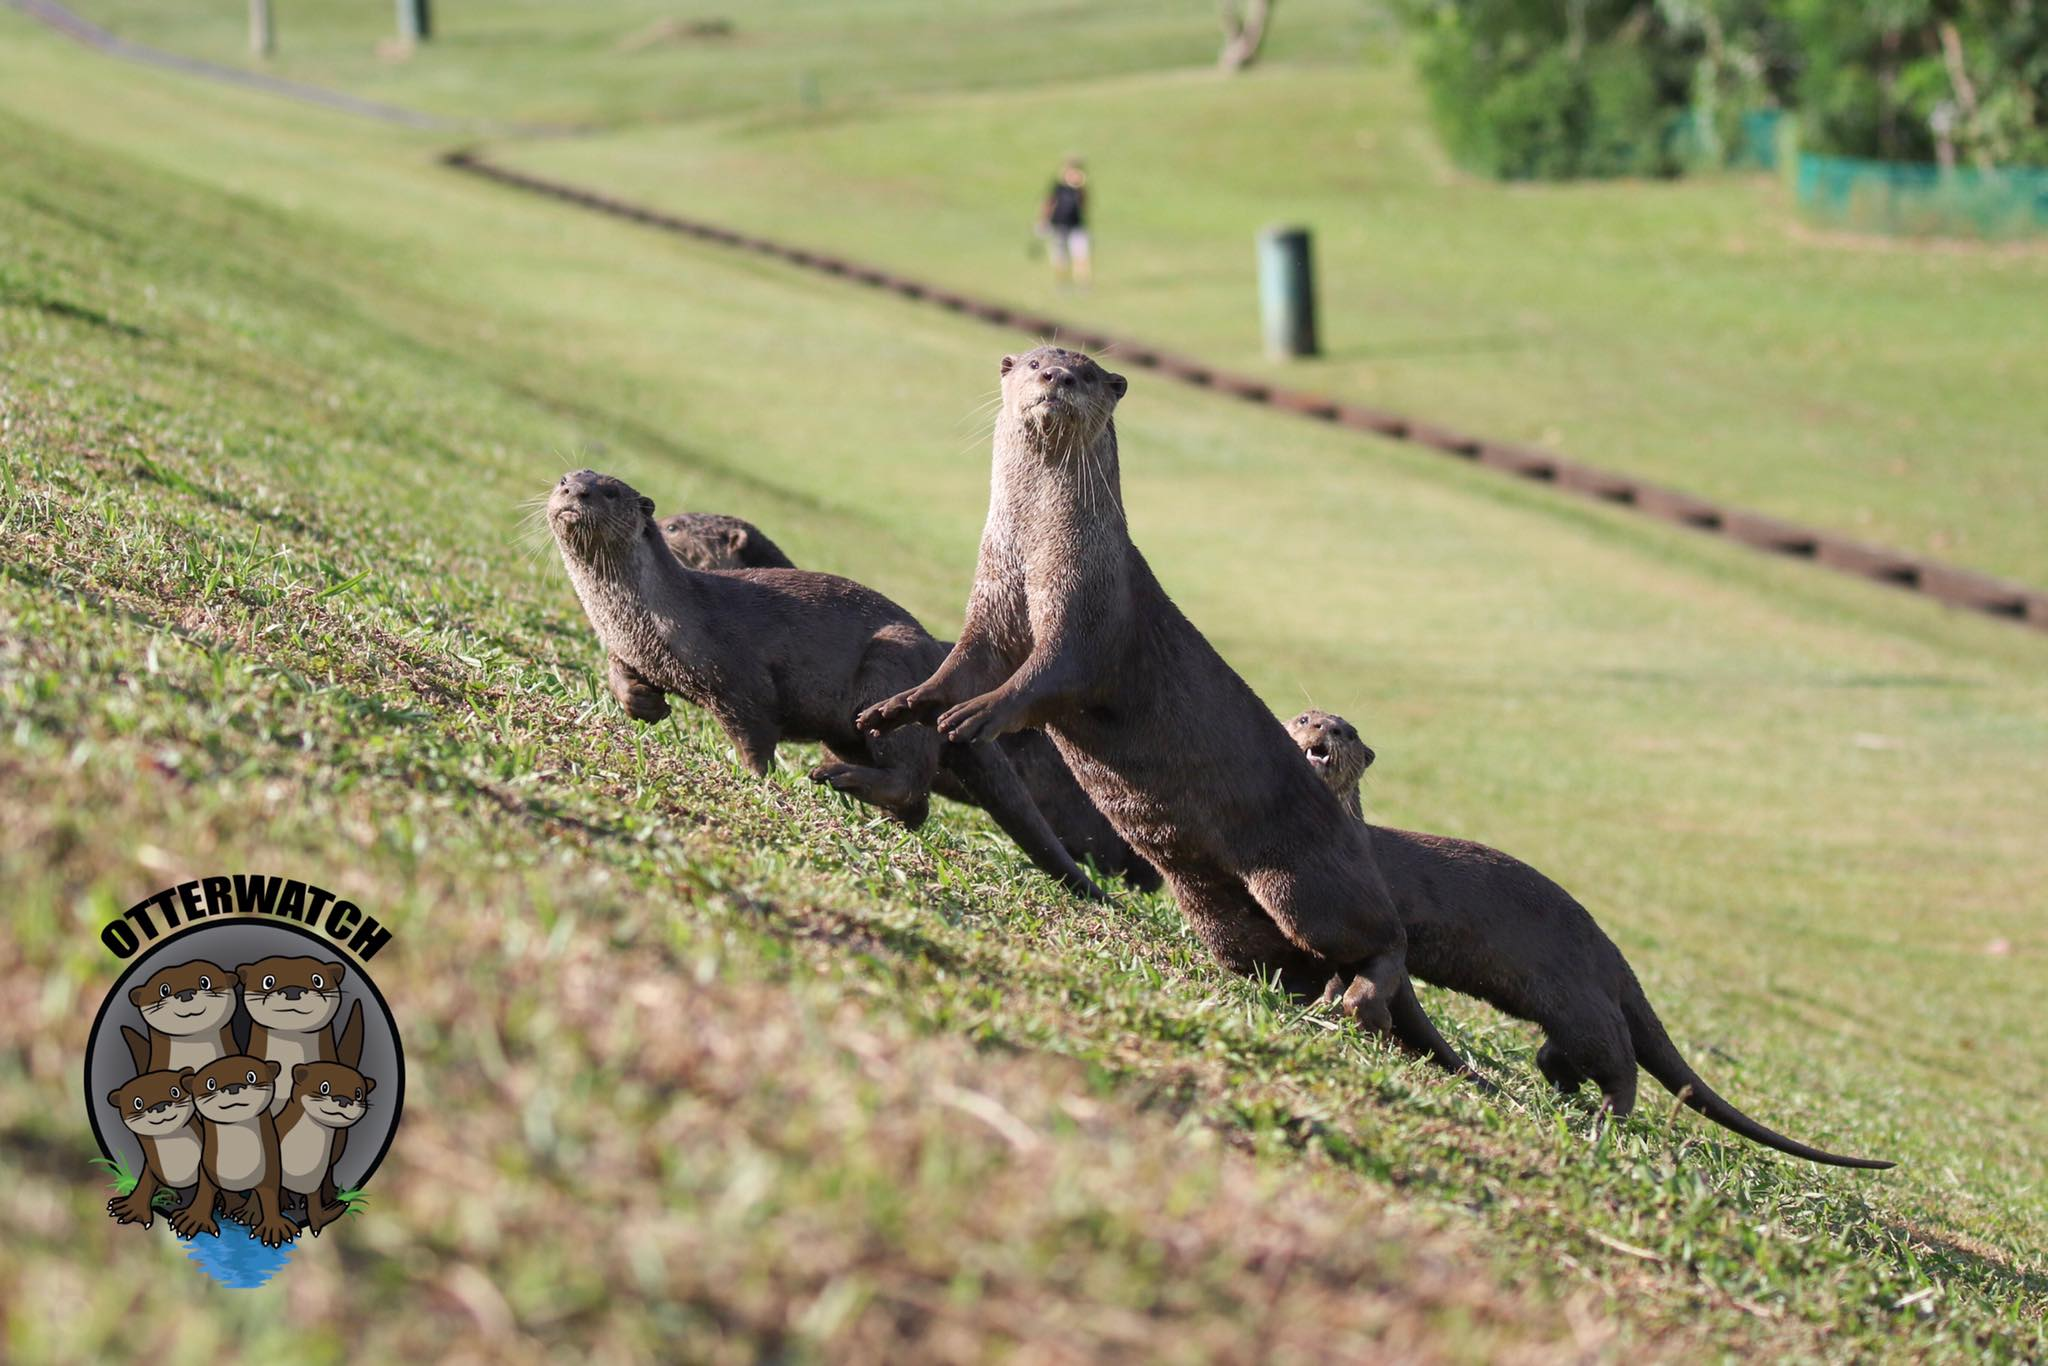otter: (861, 331, 1507, 1110), (1286, 694, 1903, 1188), (512, 444, 1061, 840)
